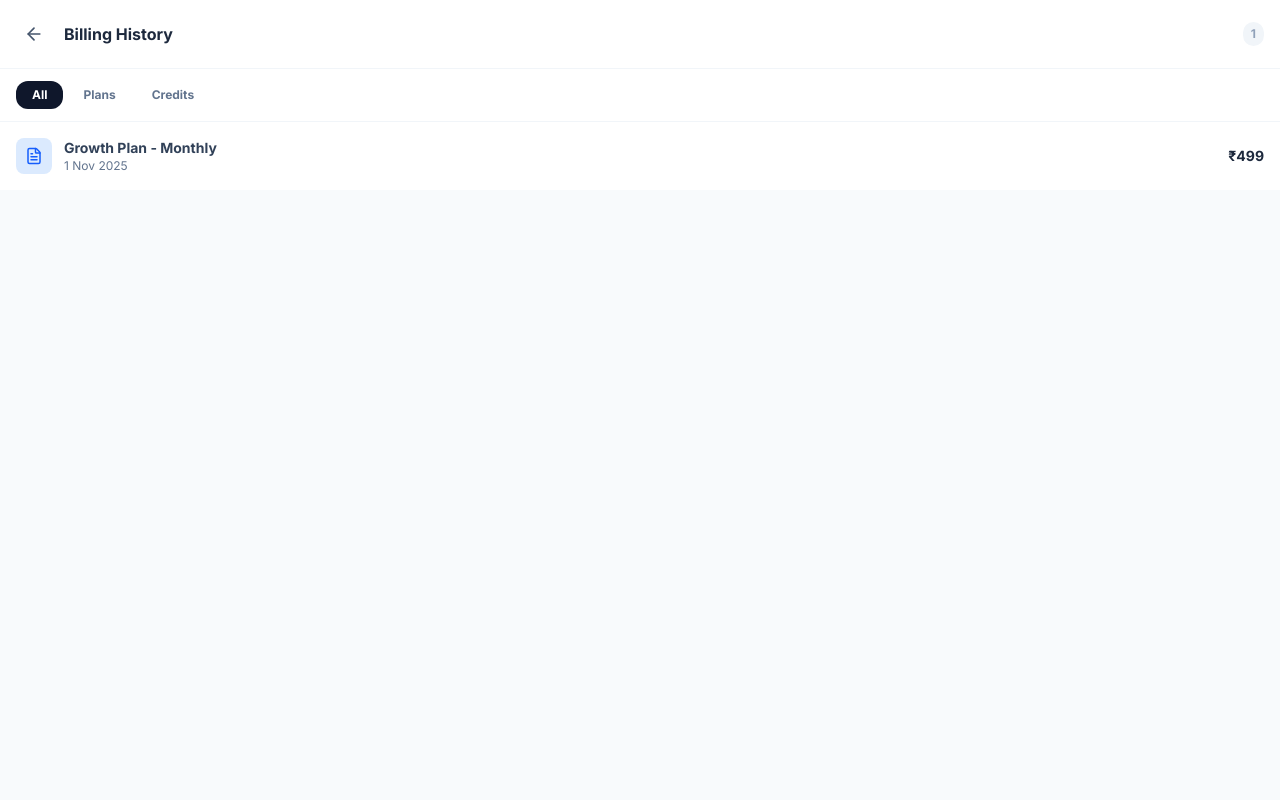
InvoiceHistoryPanel › shows empty state when no invoices match filter
Click the button "Credits" at (173, 95), box [136,81,210,109]
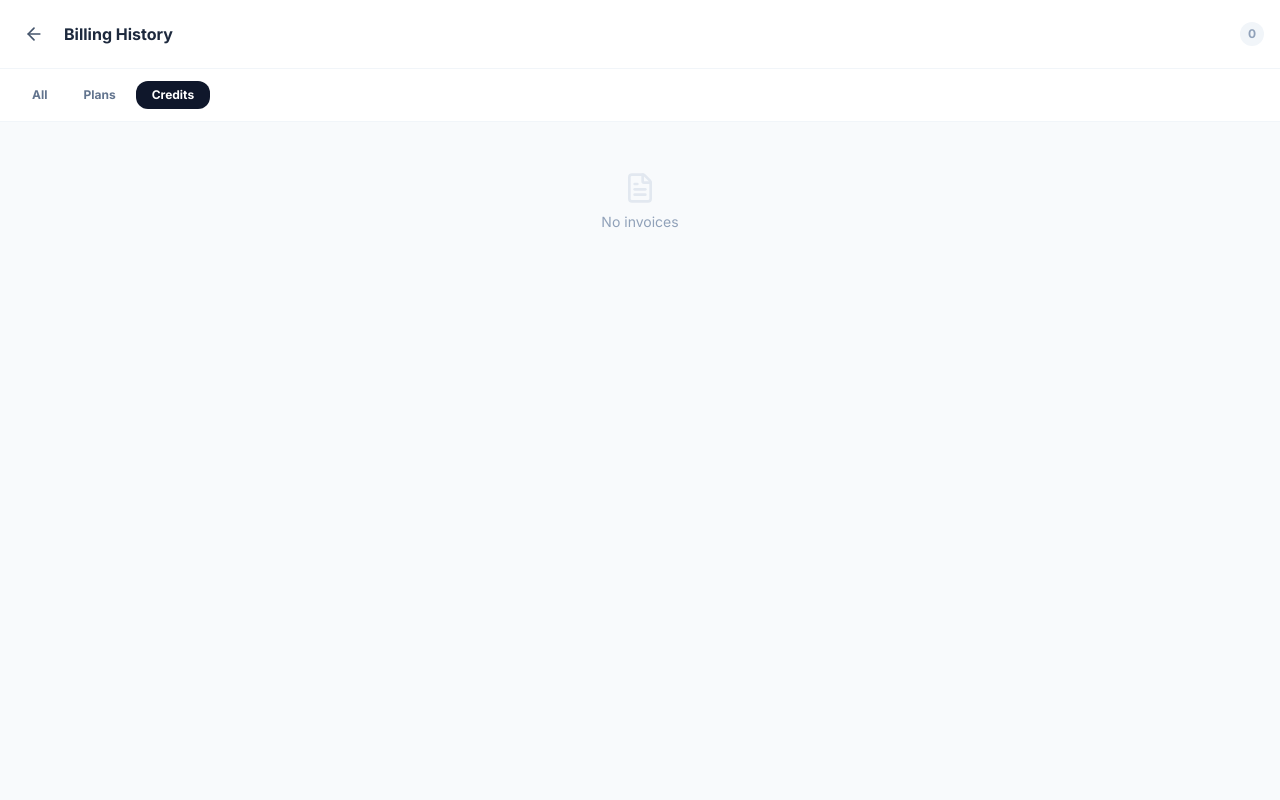
Expected: the text "No invoices" is shown, [601,212,679,232]
